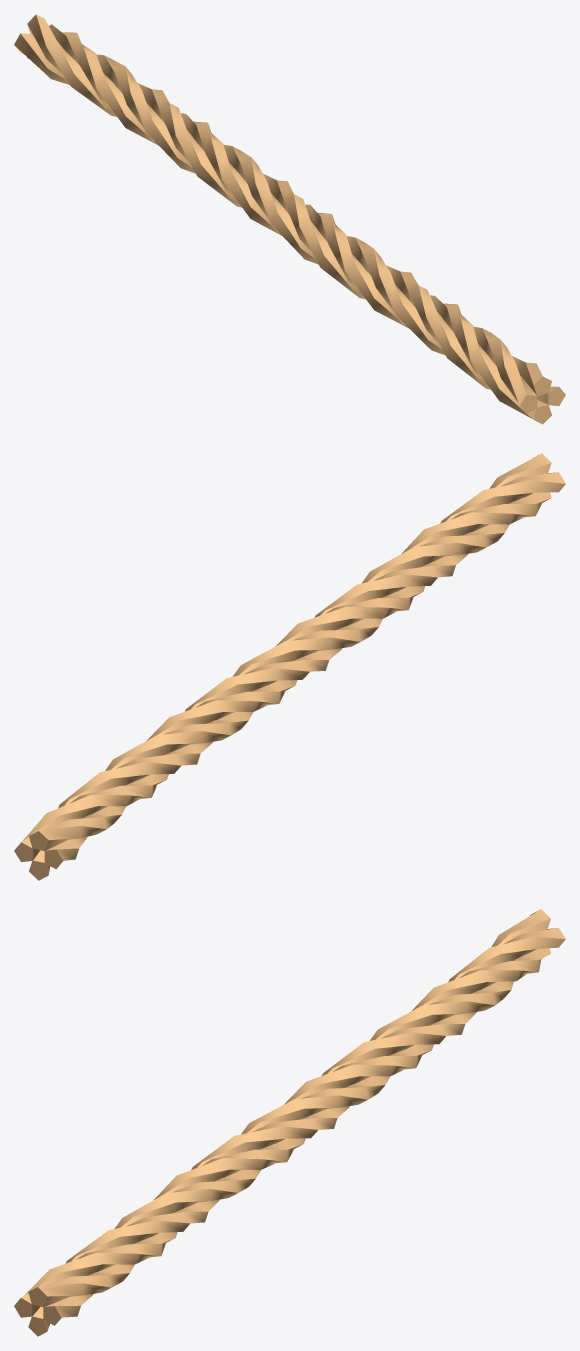
Rendered from Four_Side_Rope_Line.fbx.
3 views of the same model, one above another, from view 1: azimuth 30°, elevation 25°; view 2: azimuth 150°, elevation 25°; view 3: azimuth 330°, elevation 25° (orthographic). The views are drawn at different scales.
Parts seen in each view (by area): view 1: sweep12; view 2: sweep12; view 3: sweep12.
Boxes of the visible parts, bbox=[...] form: sweep12: bbox=[14, 14, 565, 424]; sweep12: bbox=[14, 453, 565, 880]; sweep12: bbox=[14, 909, 565, 1336].
Size of the model in its own units: 2.26 by 1.89 by 35.31.
1 material, 1 textured.
